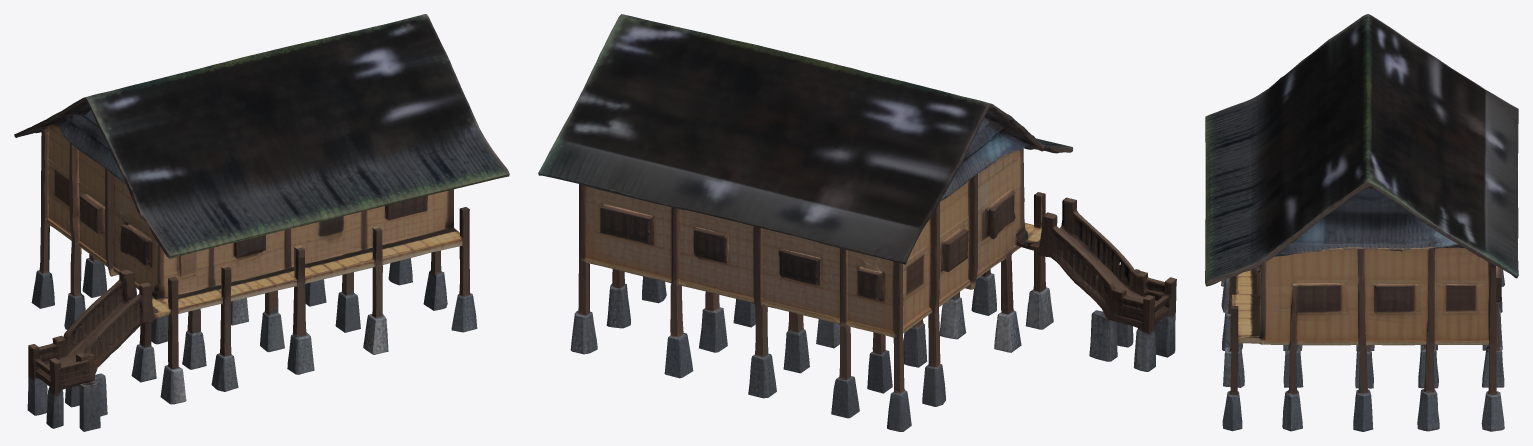
Rendered from sulawesi-barat.glb.
The picture shows the model from 3 angles, left to right: view 1: azimuth 30°, elevation 25°; view 2: azimuth 150°, elevation 25°; view 3: azimuth 270°, elevation 25°; orthographic projection. The views are drawn at different scales.
Parts seen in each view (by area): view 1: world; view 2: world; view 3: world.
Part boxes in pixels (left/top/right/bottom): world: left=14, top=14, right=509, bottom=431; world: left=538, top=14, right=1176, bottom=431; world: left=1205, top=14, right=1518, bottom=431.
Bounding box in the file's own units: 0.7003 × 0.39 × 0.424.
1 material, 1 textured.
